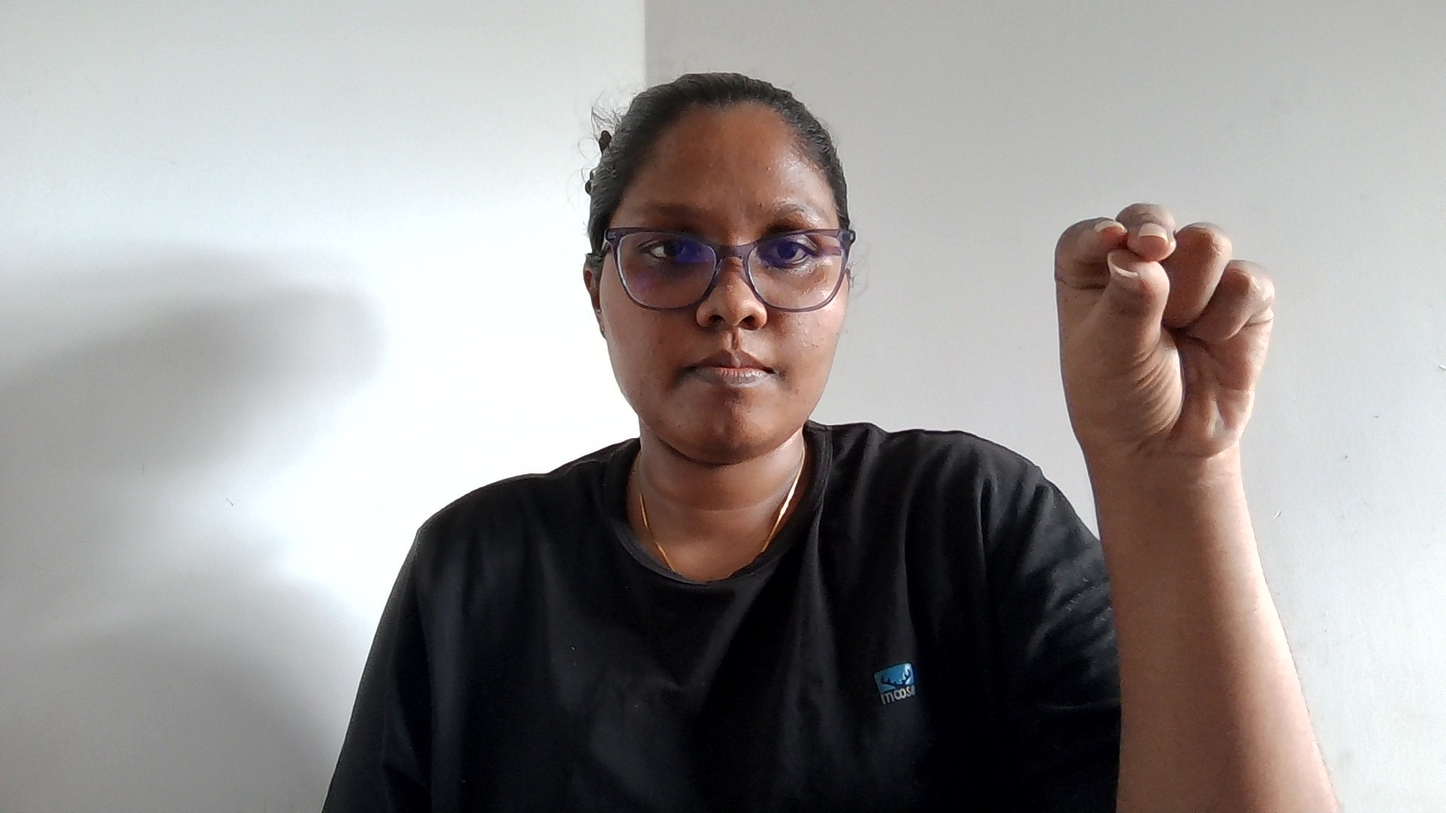No: (1000, 174, 1303, 634)
